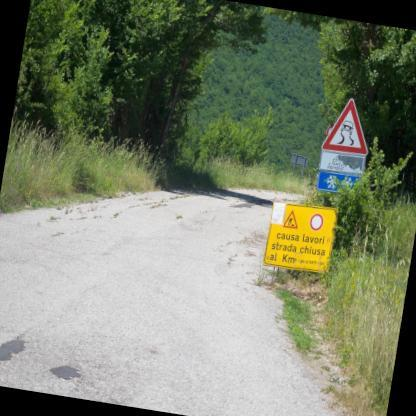road_sign: (323, 98, 367, 156)
